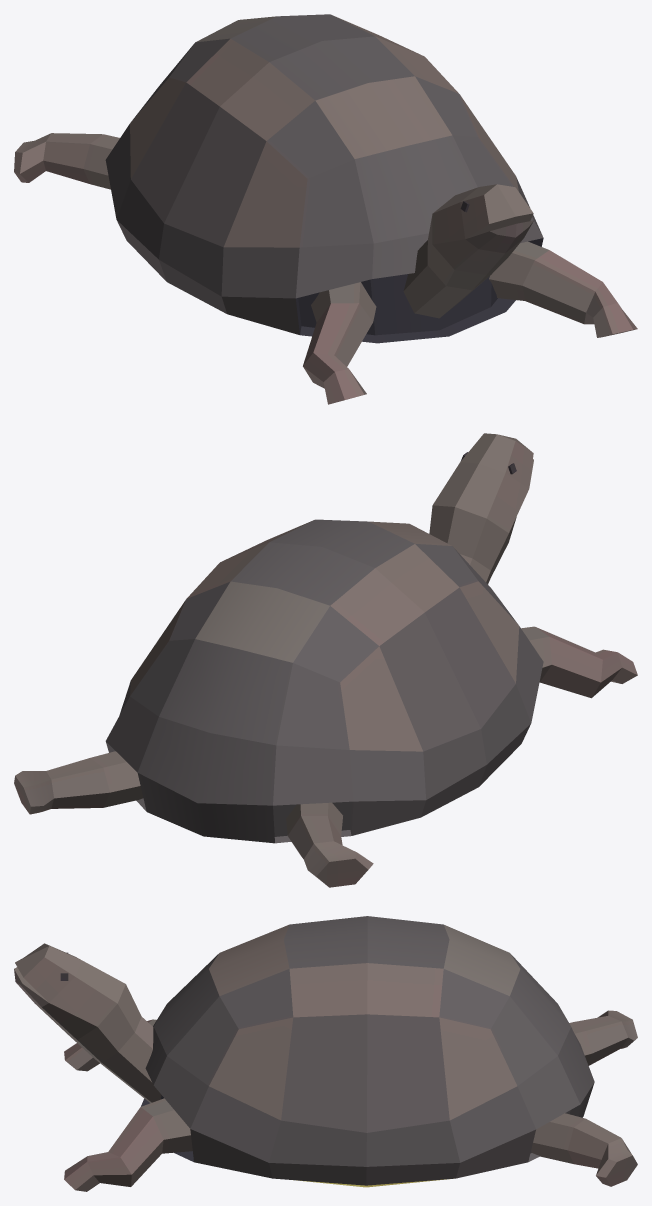
Rendered from c6n73UnGEP4.glb.
The picture shows the model from 3 angles, top to bottom: view 1: azimuth 30°, elevation 25°; view 2: azimuth 150°, elevation 25°; view 3: azimuth 270°, elevation 25°; orthographic projection. The views are drawn at different scales.
Parts seen in each view (by area): view 1: Geo_Turtle; view 2: Geo_Turtle; view 3: Geo_Turtle.
Part boxes in pixels (box(x1,y1,x2,y2)): Geo_Turtle: box(14, 14, 637, 404); Geo_Turtle: box(14, 433, 637, 887); Geo_Turtle: box(14, 916, 637, 1191).
Size of the model in its own units: 1.61 by 1 by 2.7.
1 material, 1 textured.
